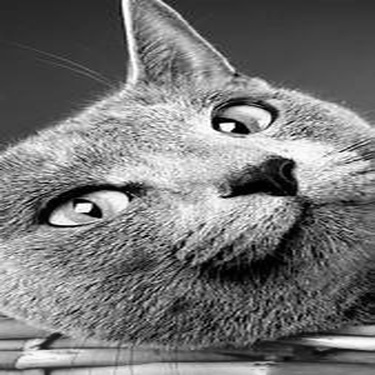cat: (10, 4, 371, 350)
